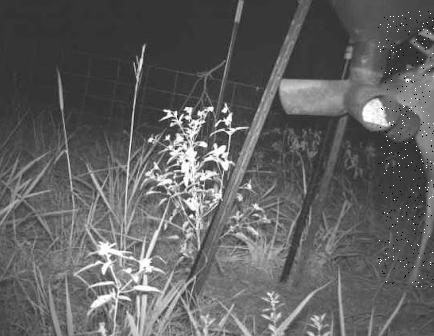Deer: (378, 10, 434, 287)
